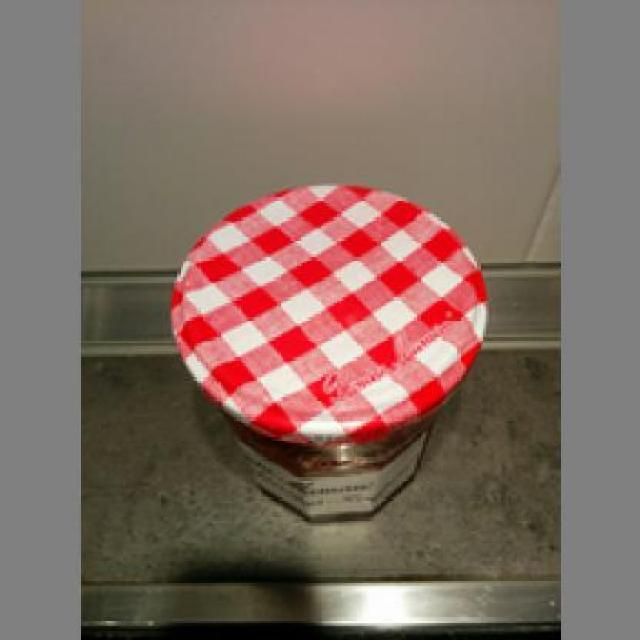Jam: (162, 177, 488, 523)
